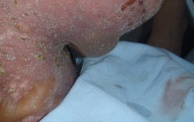SJS-TEN: (0, 0, 163, 122)
